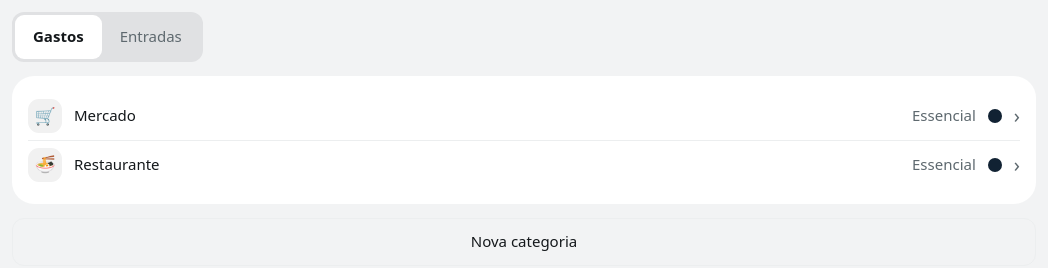
Scenario: Categories screen › lists the expense categories with their kind of expense, and switches to income
Expected: the button "🛒 Mercado Essencial ›" is shown, left=28, top=92, right=1020, bottom=140
Expected: the text "Salário" is not shown
Click the button "Entradas". click: (151, 37)
box: left=102, top=15, right=200, bottom=59
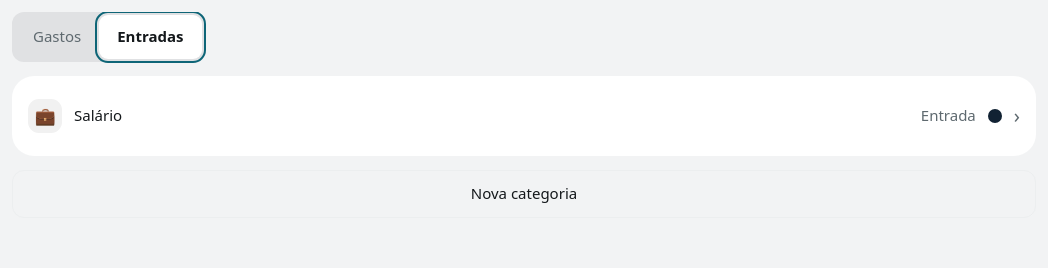
Expected: the button "💼 Salário Entrada ›" is shown, left=28, top=92, right=1020, bottom=140
Expected: the button "Mercado" is gone
